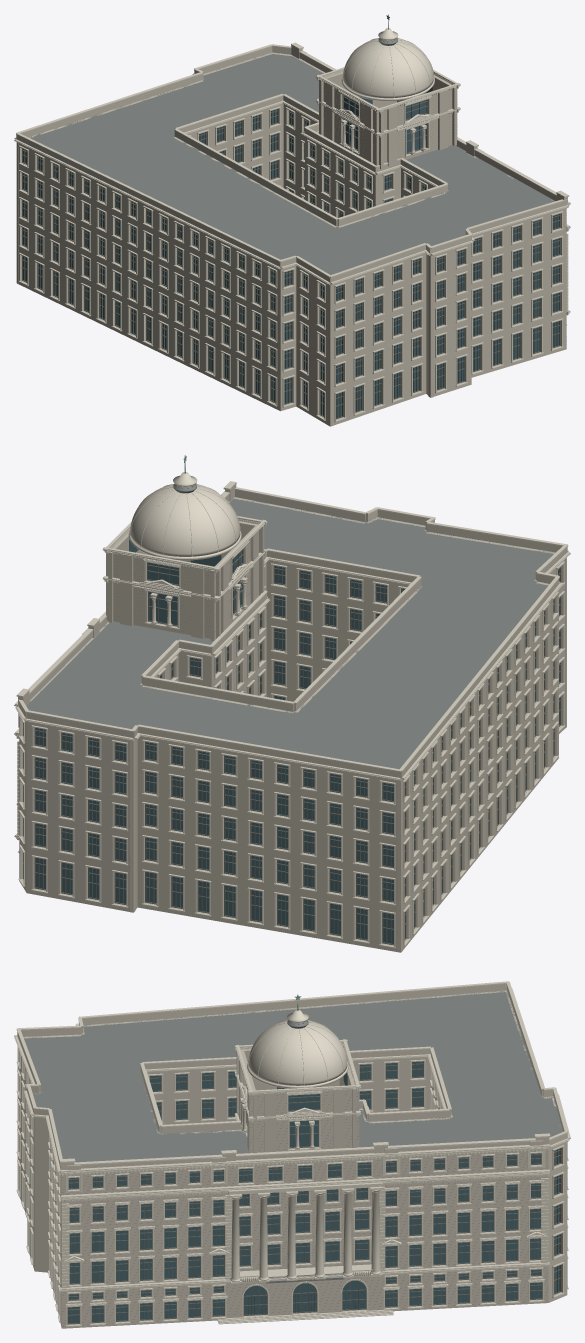
The model's file is bund12.glb.
3 views of the same model, one above another, from view 1: azimuth 30°, elevation 25°; view 2: azimuth 150°, elevation 25°; view 3: azimuth 270°, elevation 25° (orthographic). The views are drawn at different scales.
Size of the model in its own units: 75.26 by 55.72 by 94.69.
